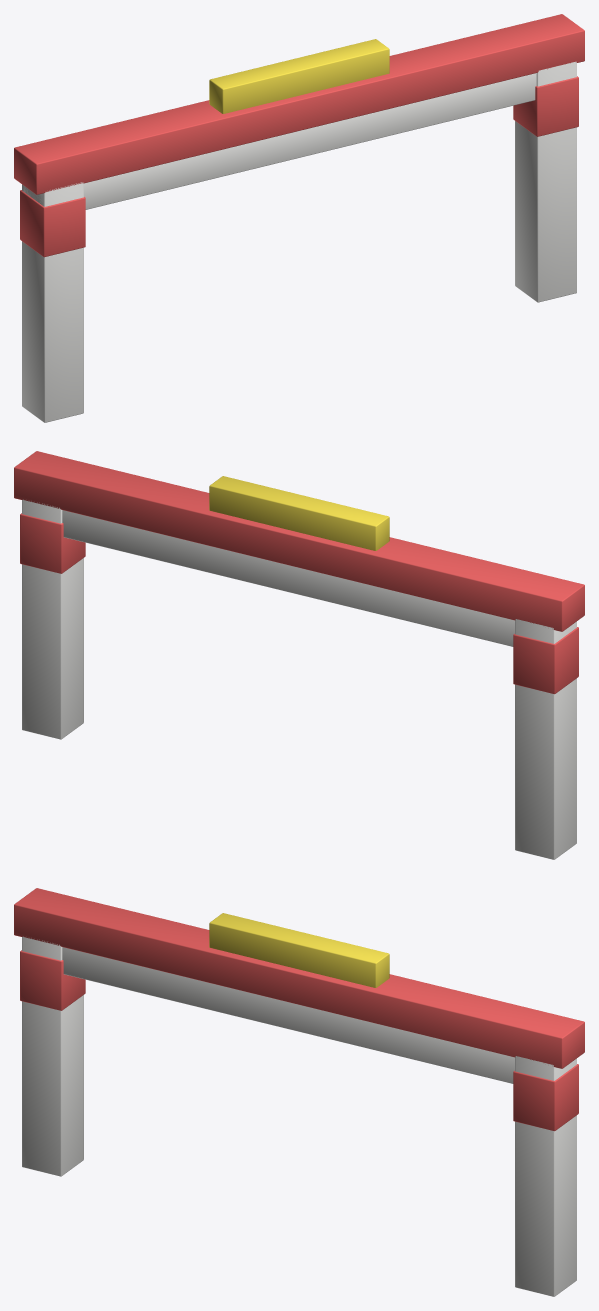
Rendered from gapura.glb.
3 renders of one model, top to bottom at view 1: azimuth 30°, elevation 25°; view 2: azimuth 150°, elevation 25°; view 3: azimuth 330°, elevation 25°, orthographic.
Parts seen in each view (by area): view 1: CrossBeamRed, CrossBeamWhite, PillarL.002, PillarR.002, TopCrest, PillarL_Red, PillarR_Red; view 2: CrossBeamRed, CrossBeamWhite, PillarL.002, PillarR.002, TopCrest, PillarL_Red, PillarR_Red; view 3: CrossBeamRed, CrossBeamWhite, PillarR.002, PillarL.002, TopCrest, PillarR_Red, PillarL_Red.
Boxes of the visible parts, <box> form: CrossBeamRed: <box>14,14,584,194</box>; CrossBeamWhite: <box>23,73,536,209</box>; PillarL.002: <box>22,182,83,422</box>; PillarR.002: <box>515,61,576,302</box>; TopCrest: <box>209,39,389,113</box>; PillarL_Red: <box>20,190,85,257</box>; PillarR_Red: <box>513,76,578,136</box>; CrossBeamRed: <box>14,451,584,631</box>; CrossBeamWhite: <box>62,510,514,646</box>; PillarL.002: <box>515,619,576,859</box>; PillarR.002: <box>22,499,83,739</box>; TopCrest: <box>209,476,389,550</box>; PillarL_Red: <box>513,627,578,694</box>; PillarR_Red: <box>20,513,85,573</box>; CrossBeamRed: <box>14,888,584,1068</box>; CrossBeamWhite: <box>62,947,514,1083</box>; PillarR.002: <box>515,1056,576,1296</box>; PillarL.002: <box>22,936,83,1176</box>; TopCrest: <box>209,913,389,987</box>; PillarR_Red: <box>513,1064,578,1131</box>; PillarL_Red: <box>20,950,85,1010</box>.
Bounding box in the file's own units: 13.8 × 6.88 × 1.06.
